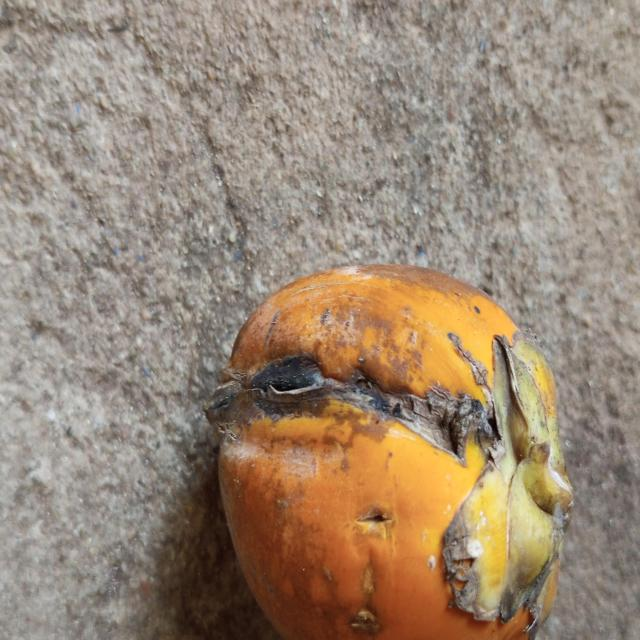damaged: (201, 265, 574, 640)
